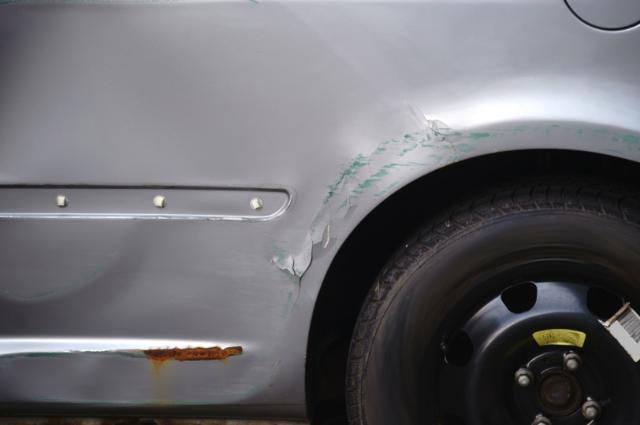Bumper: (0, 296, 291, 416)
Fender: (227, 74, 491, 286)
